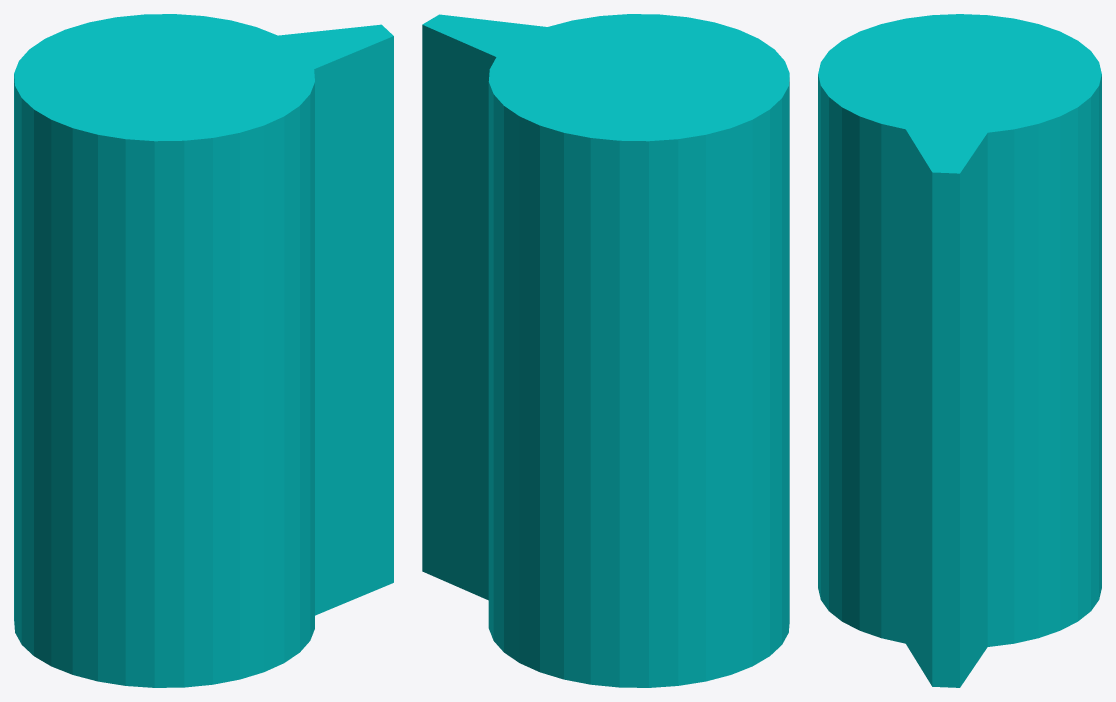
The model's file is character.fbx.
The picture shows the model from 3 angles, left to right: view 1: azimuth 30°, elevation 25°; view 2: azimuth 150°, elevation 25°; view 3: azimuth 270°, elevation 25°; orthographic projection. The views are drawn at different scales.
Visible parts, largest first — view 1: Cylinder; view 2: Cylinder; view 3: Cylinder.
Part boxes in pixels (x1,y1,x2,y2): Cylinder: [14, 14, 393, 687]; Cylinder: [422, 14, 789, 687]; Cylinder: [818, 14, 1101, 687].
Size of the model in its own units: 133 by 200 by 100.
